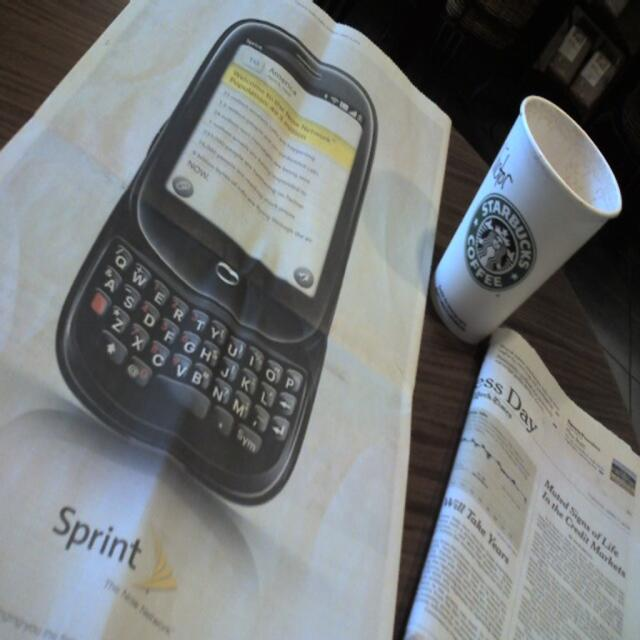Mobile-phone: (50, 16, 386, 516)
